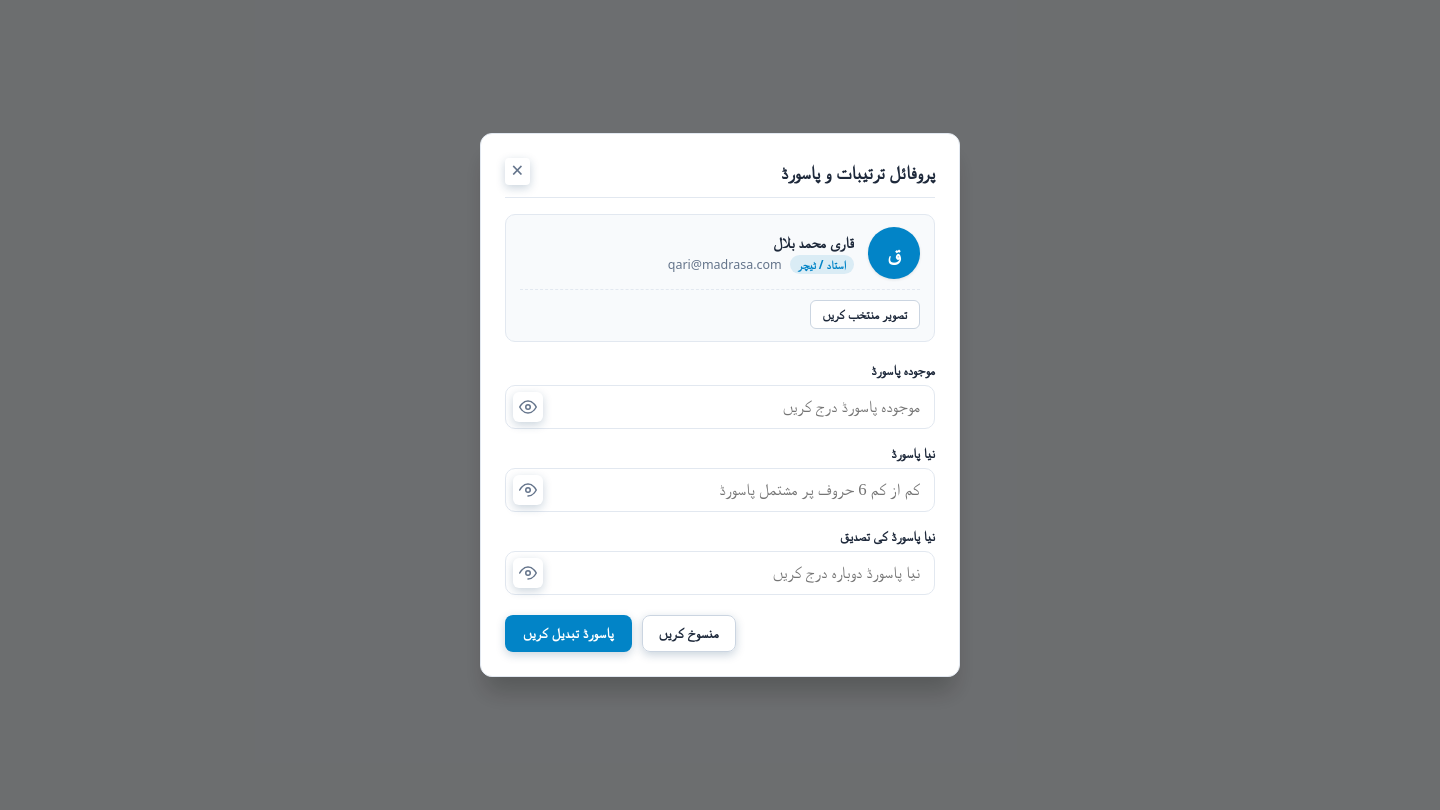
ProfileModal Component › validates password minimum length (< 6 characters) and mismatch
The width and height of the screenshot is (1440, 810).
Type "current123" into the password field labelled "موجودہ پاسورڈ".
click(720, 406); type("current123")  # box [505, 384, 935, 428]
Type "12345" into the password field labelled "نیا پاسورڈ".
click(720, 490); type("12345")  # box [505, 468, 935, 512]
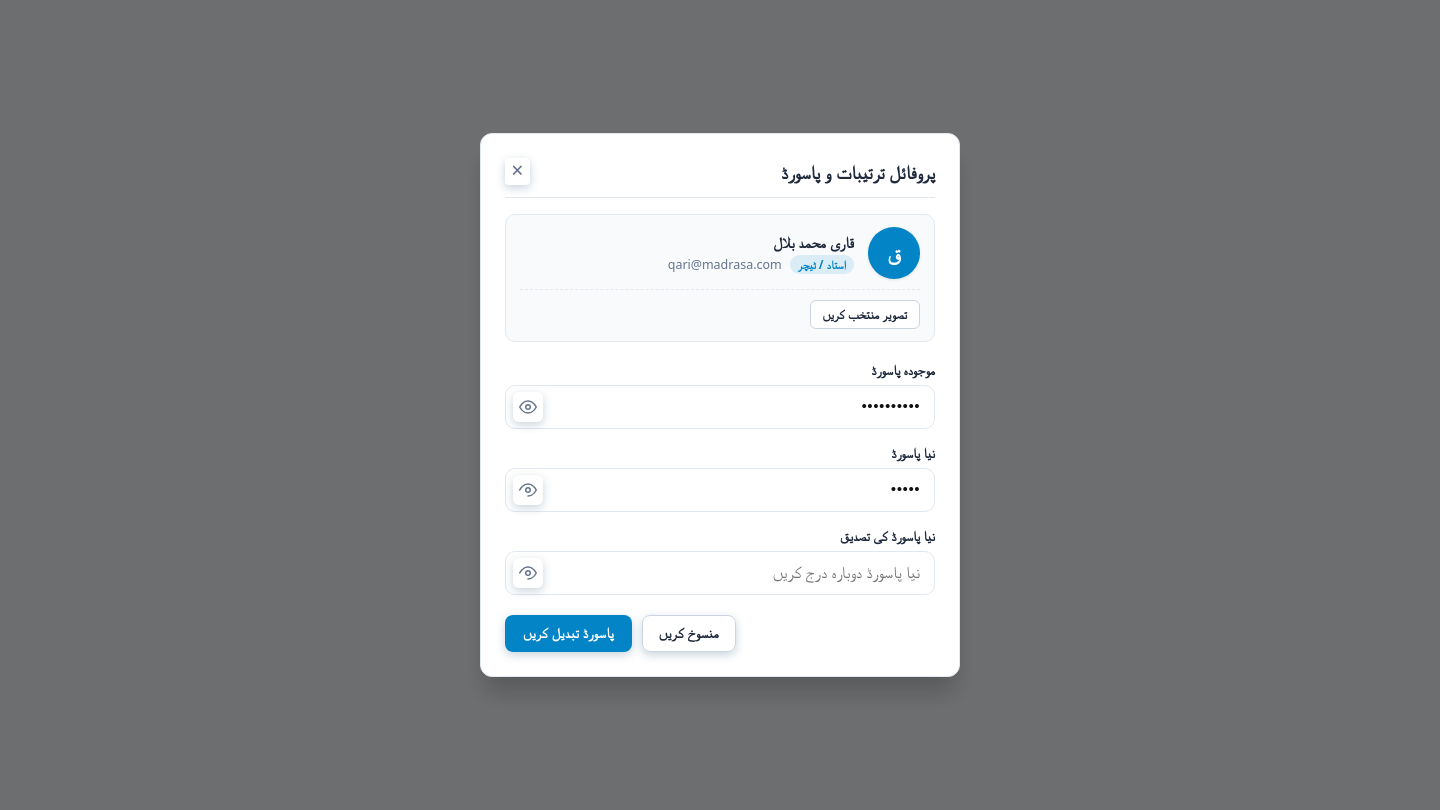
Type "12345" into the password field labelled "نیا پاسورڈ کی تصدیق".
click(720, 572); type("12345")  # box [505, 550, 935, 594]
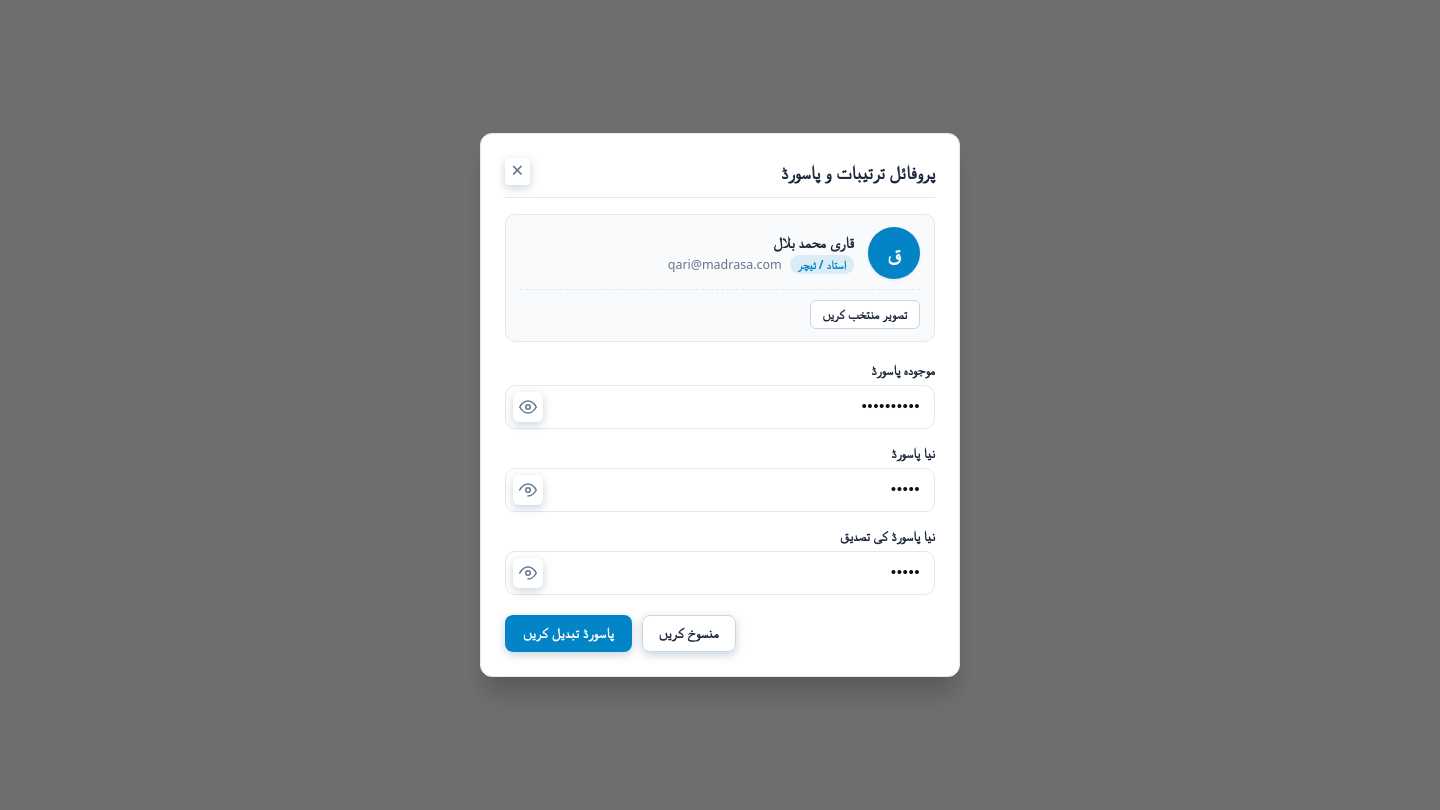
Click the button "پاسورڈ تبدیل کریں".
click(568, 633)  # box [505, 614, 632, 652]
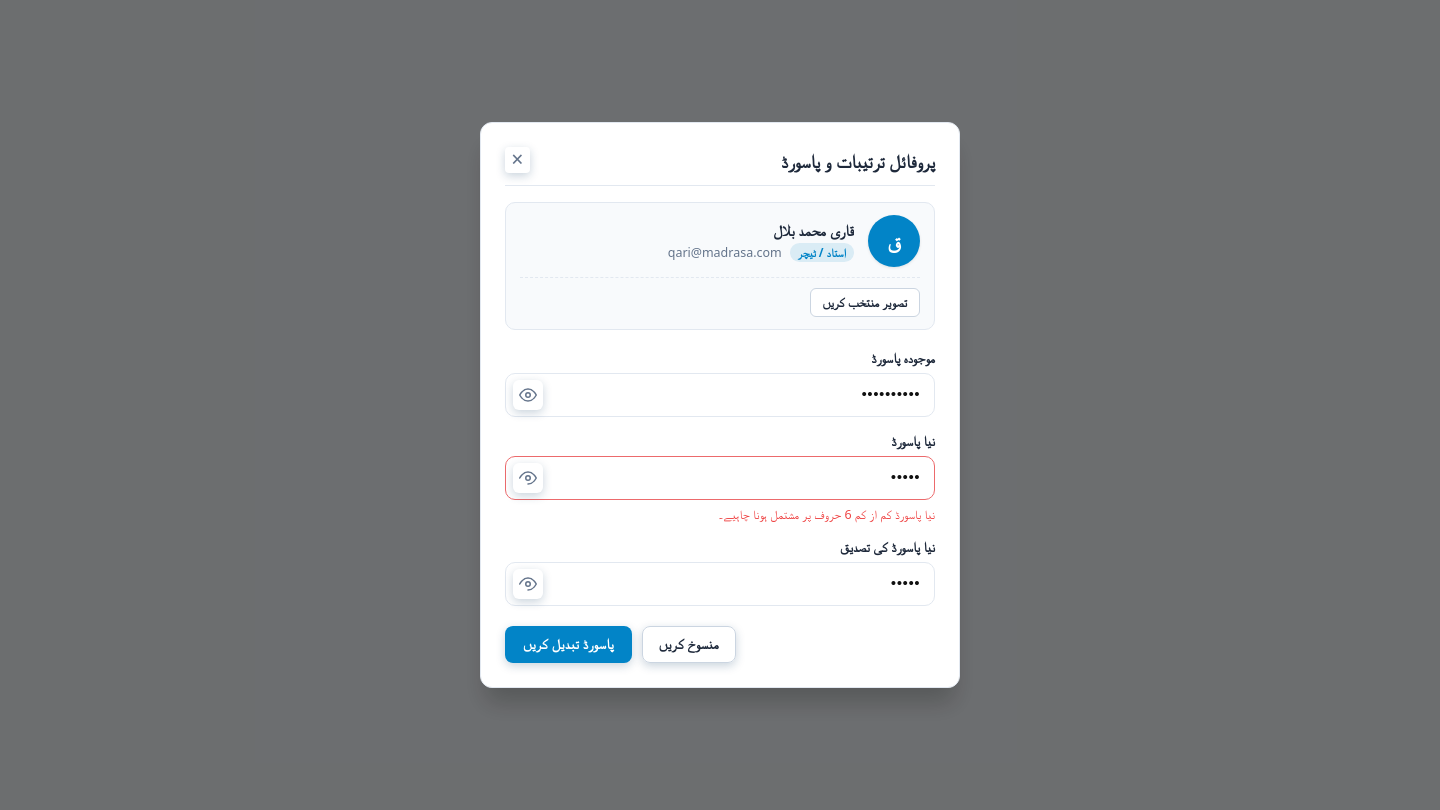
Expected: the text "نیا پاسورڈ کم از کم 6 حروف پر مشتمل ہونا چاہیے۔" is shown, [718, 506, 935, 523]
Test password mismatch
Type "secretPass123" into the password field labelled "نیا پاسورڈ".
click(720, 478); type("secretPass123")  # box [505, 456, 935, 500]
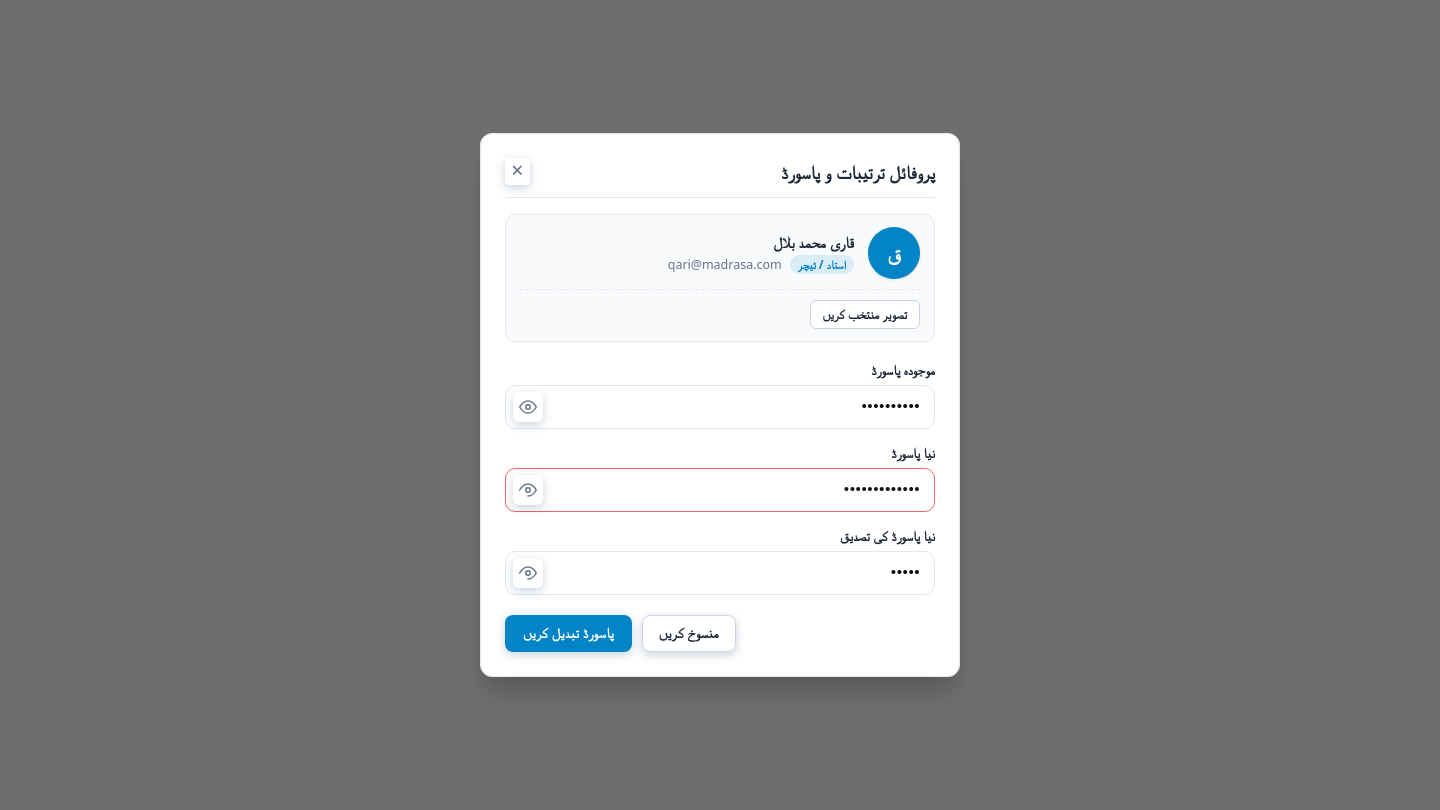
Type "wrongPass123" into the password field labelled "نیا پاسورڈ کی تصدیق".
click(720, 572); type("wrongPass123")  # box [505, 550, 935, 594]
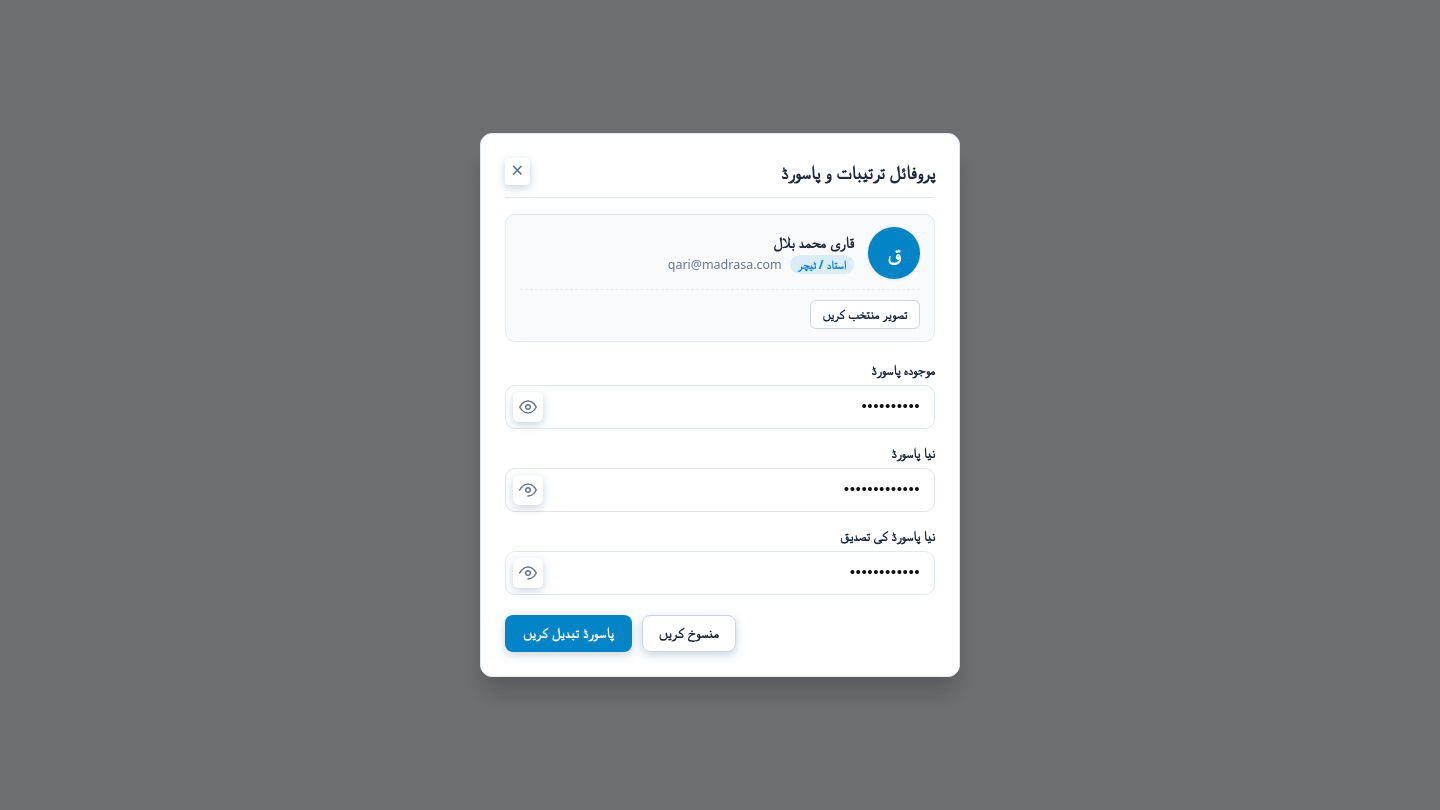
Click the button "پاسورڈ تبدیل کریں".
click(568, 633)  # box [505, 614, 632, 652]
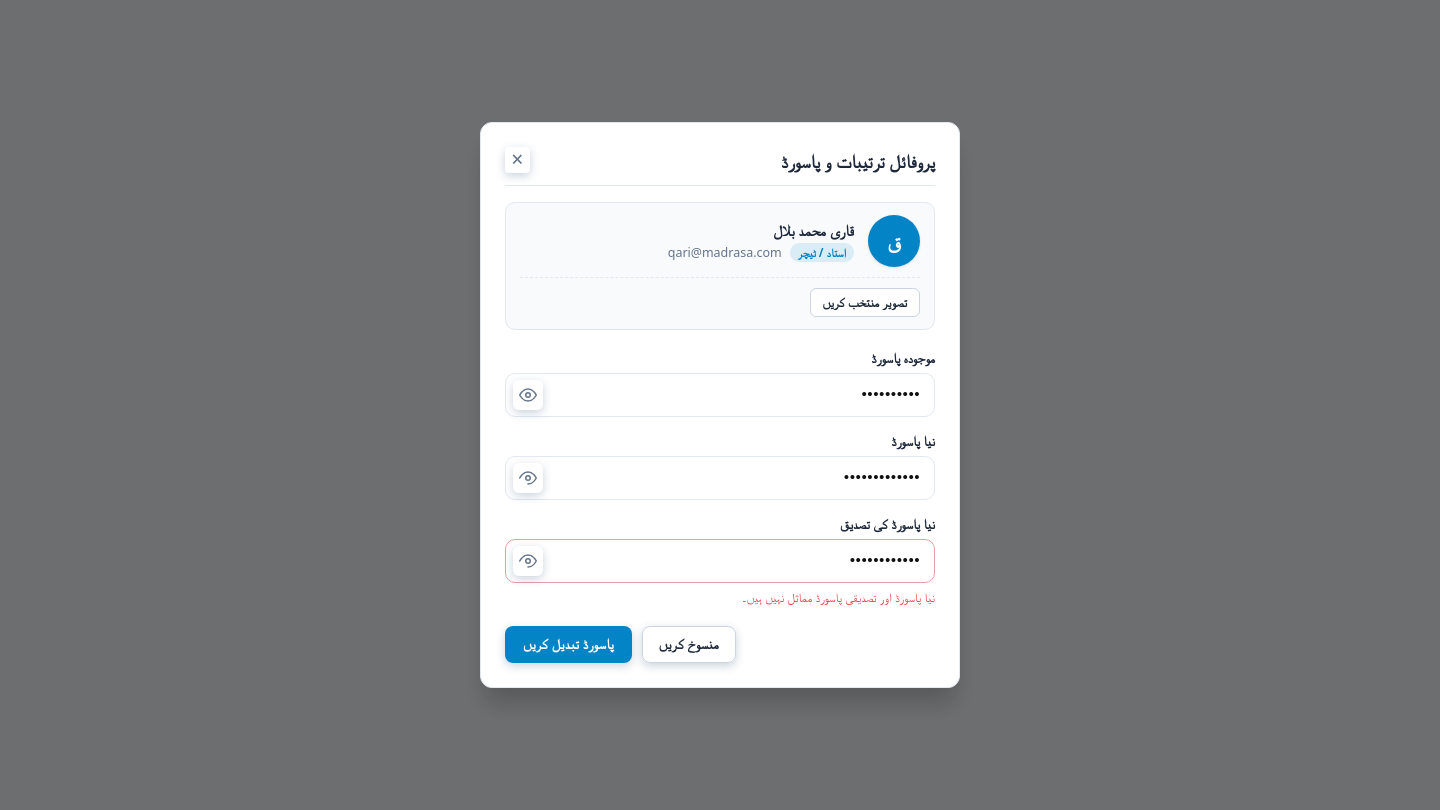
Expected: the text "نیا پاسورڈ اور تصدیقی پاسورڈ مماثل نہیں ہیں۔" is shown, [742, 589, 935, 606]
